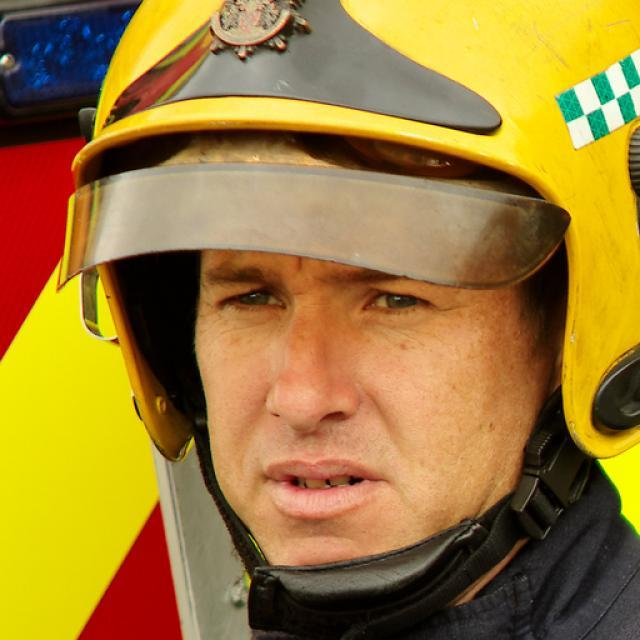disgust: (191, 148, 551, 594)
